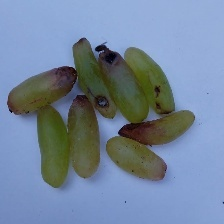grapes: (7, 34, 179, 212)
